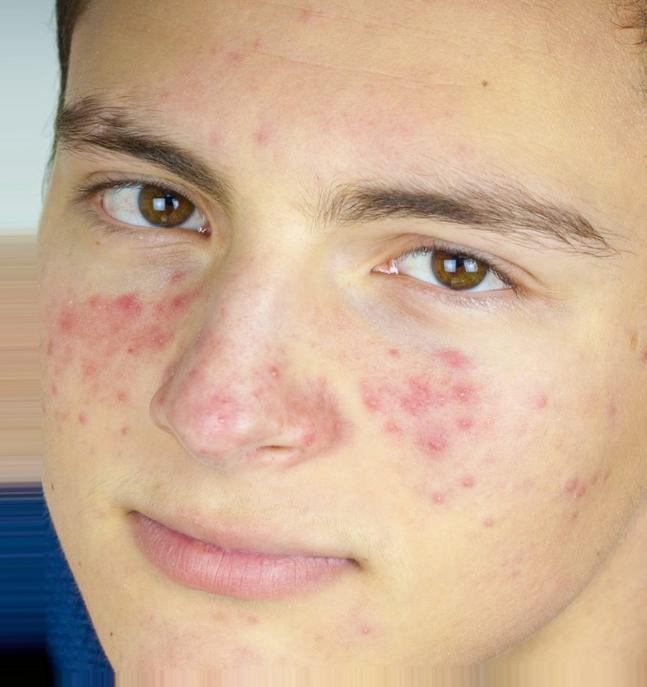Acne: (55, 297, 204, 440), (181, 349, 320, 485), (359, 325, 478, 466)
